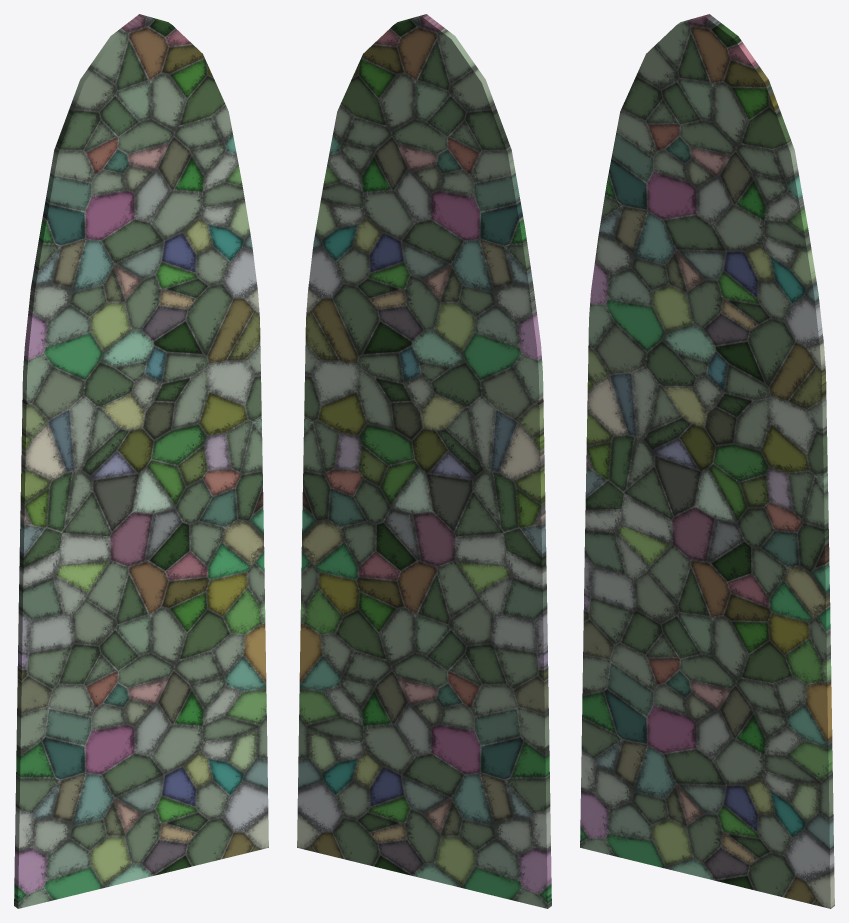
Rendered from vitral_bell.glb.
The picture shows the model from 3 angles, left to right: view 1: azimuth 30°, elevation 25°; view 2: azimuth 150°, elevation 25°; view 3: azimuth 330°, elevation 25°; orthographic projection.
Visible parts, largest first — view 1: BoolVitral.001; view 2: BoolVitral.001; view 3: BoolVitral.001.
Part boxes in pixels (x1,y1,x2,y2): BoolVitral.001: (14,14,268,908); BoolVitral.001: (297,14,551,908); BoolVitral.001: (580,14,834,908).
Bounding box in the file's own units: 2.83 × 9.27 × 0.0919.
Materials: 1 (1 with a texture image).
